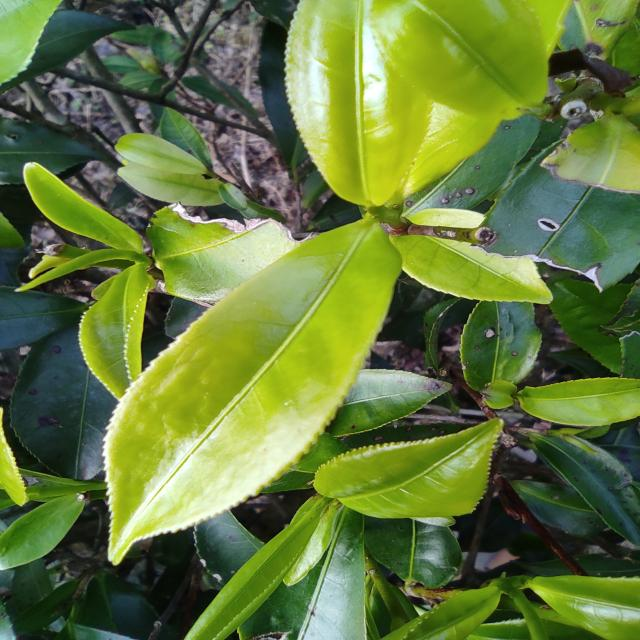Category B 2-4 days: (76, 195, 450, 576)
